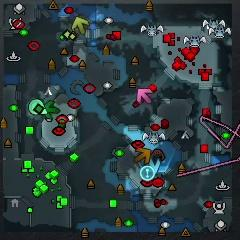Other: (140, 165, 155, 180)
p2: (29, 98, 47, 114)
x1: (137, 88, 153, 104)
x2: (73, 16, 89, 34)
x3: (149, 158, 161, 174)
x4: (43, 100, 58, 119)
x5: (135, 147, 151, 163)
